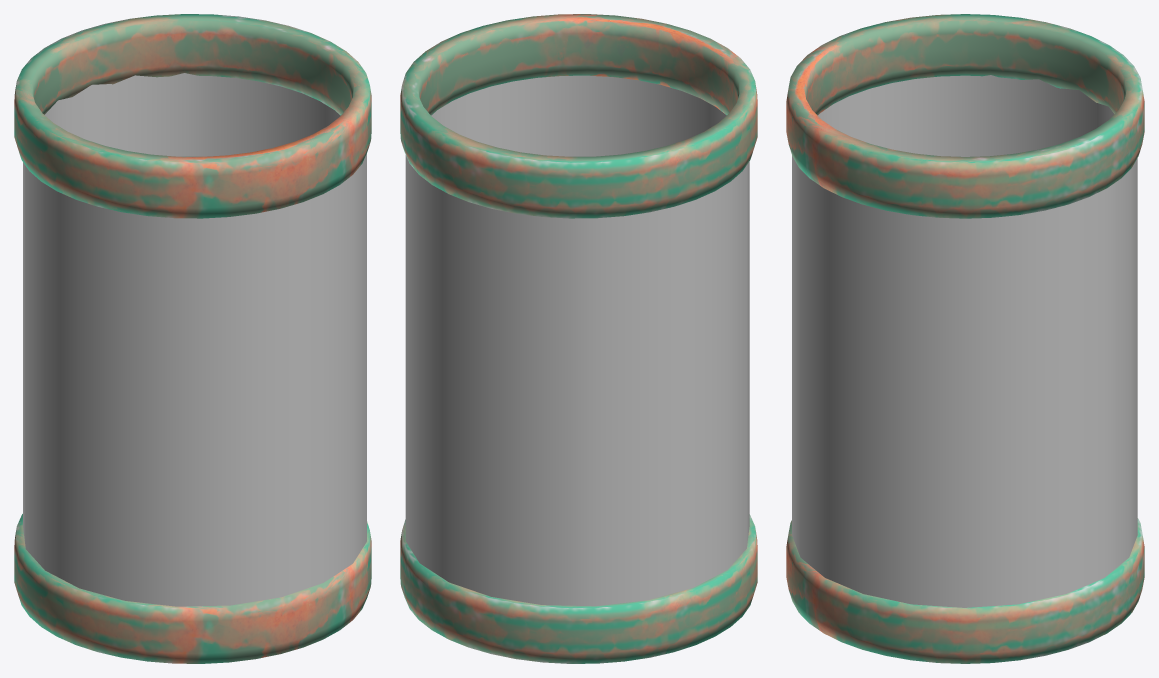
The model's file is elevator_wall.fbx.
3 views of the same model, side by side, from view 1: azimuth 30°, elevation 25°; view 2: azimuth 150°, elevation 25°; view 3: azimuth 270°, elevation 25° (orthographic).
Visible parts, largest first — view 1: elevator_glass, polySurface816, polySurface817; view 2: elevator_glass, polySurface816, polySurface817; view 3: elevator_glass, polySurface816, polySurface817.
Part boxes in pixels (x1=…): elevator_glass: x1=23, y1=73, x2=366, y2=606; polySurface816: x1=14, y1=14, x2=371, y2=218; polySurface817: x1=14, y1=514, x2=371, y2=663; elevator_glass: x1=405, y1=75, x2=749, y2=606; polySurface816: x1=400, y1=14, x2=757, y2=218; polySurface817: x1=400, y1=514, x2=757, y2=663; elevator_glass: x1=792, y1=75, x2=1137, y2=607; polySurface816: x1=786, y1=14, x2=1144, y2=218; polySurface817: x1=786, y1=518, x2=1144, y2=663.
Bounding box in the file's own units: 291 × 449 × 291.
